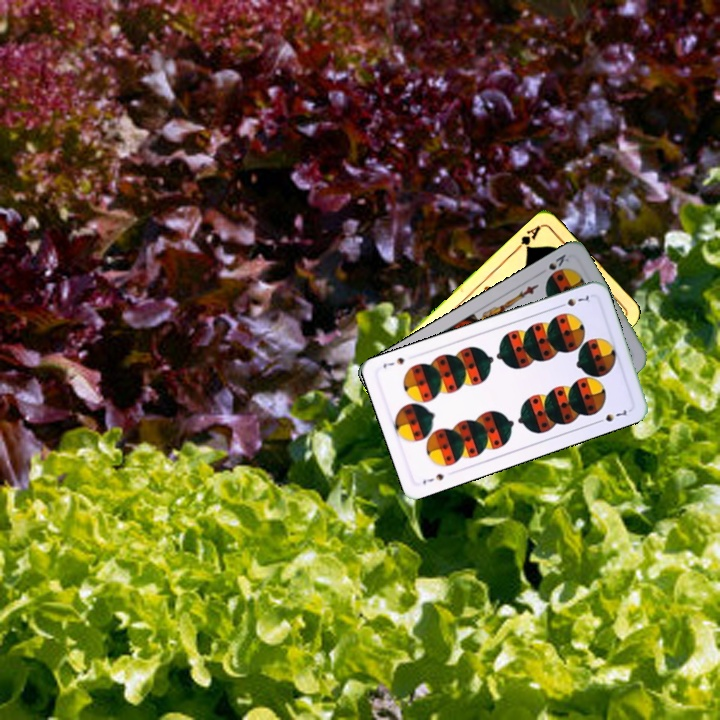GA: (511, 221, 544, 254)
S7: (554, 291, 592, 310), (419, 469, 446, 487)
SK: (543, 250, 572, 281)
